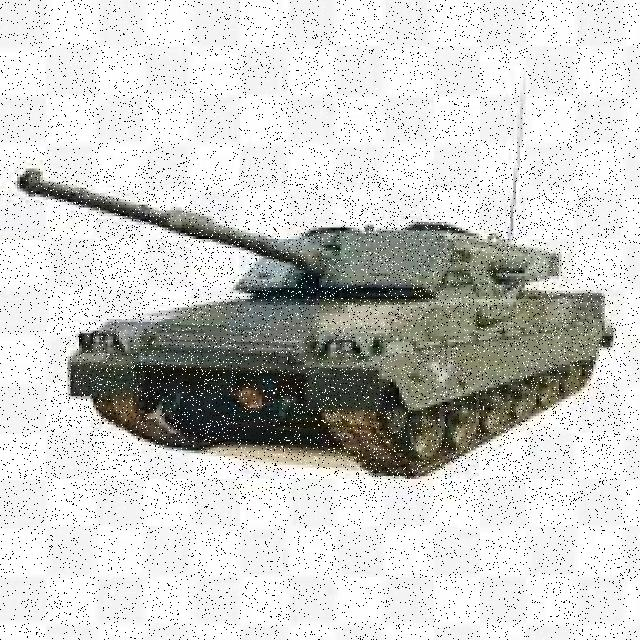MIL_MBT: (48, 168, 622, 502)
